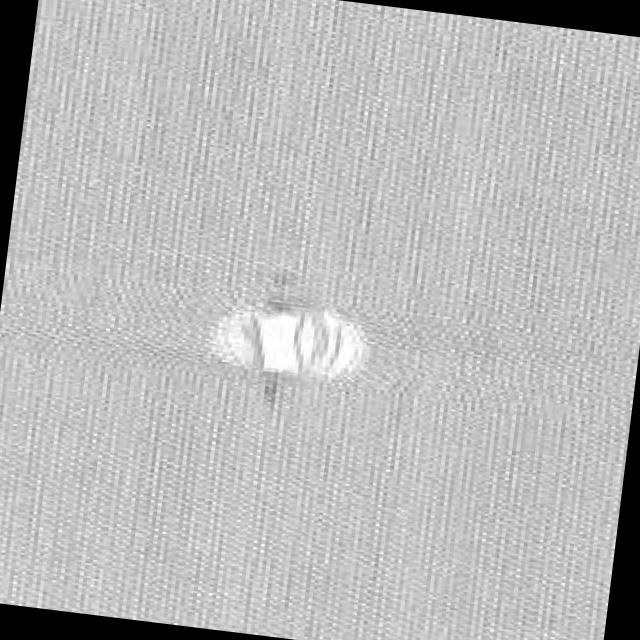hole: (207, 292, 377, 387)
